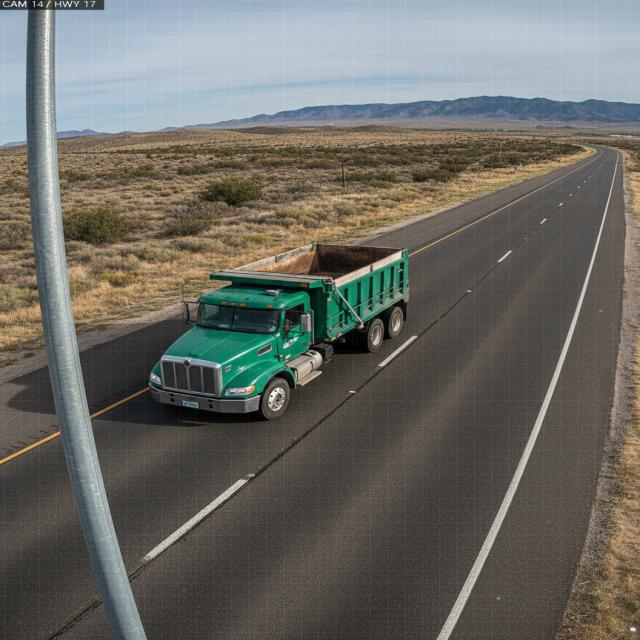trailer: (208, 238, 420, 288)
truck: (130, 222, 446, 414)
